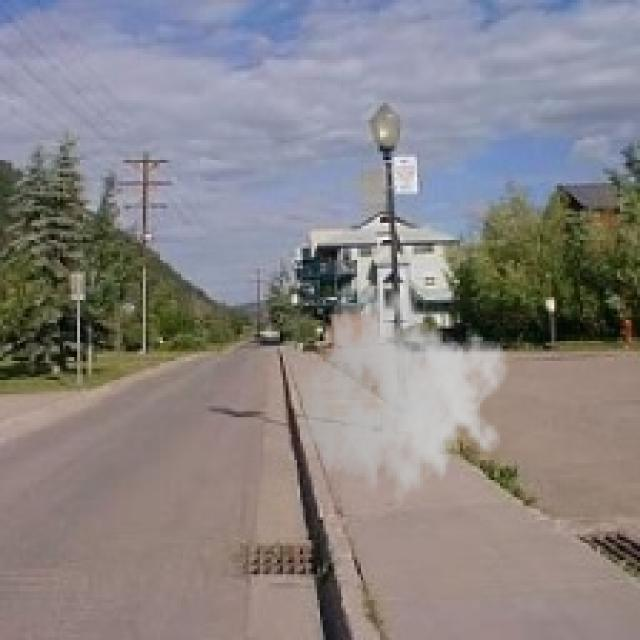smoke: (297, 280, 509, 520)
